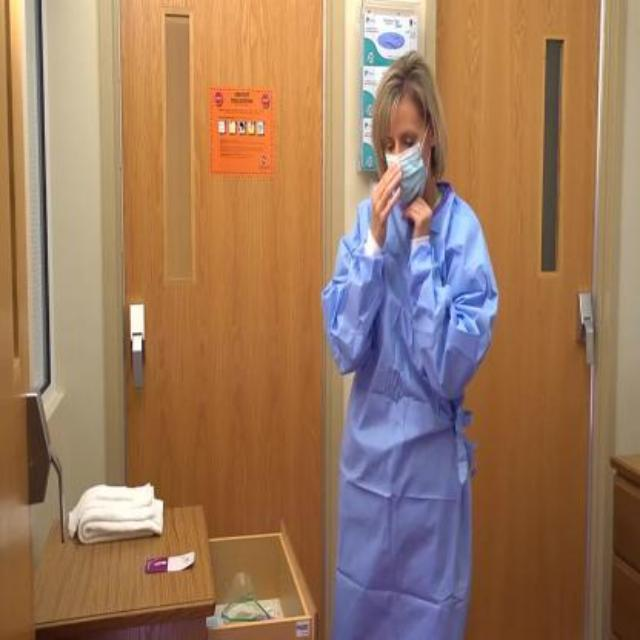bare_hand: (369, 163, 412, 262), (399, 179, 442, 254)
